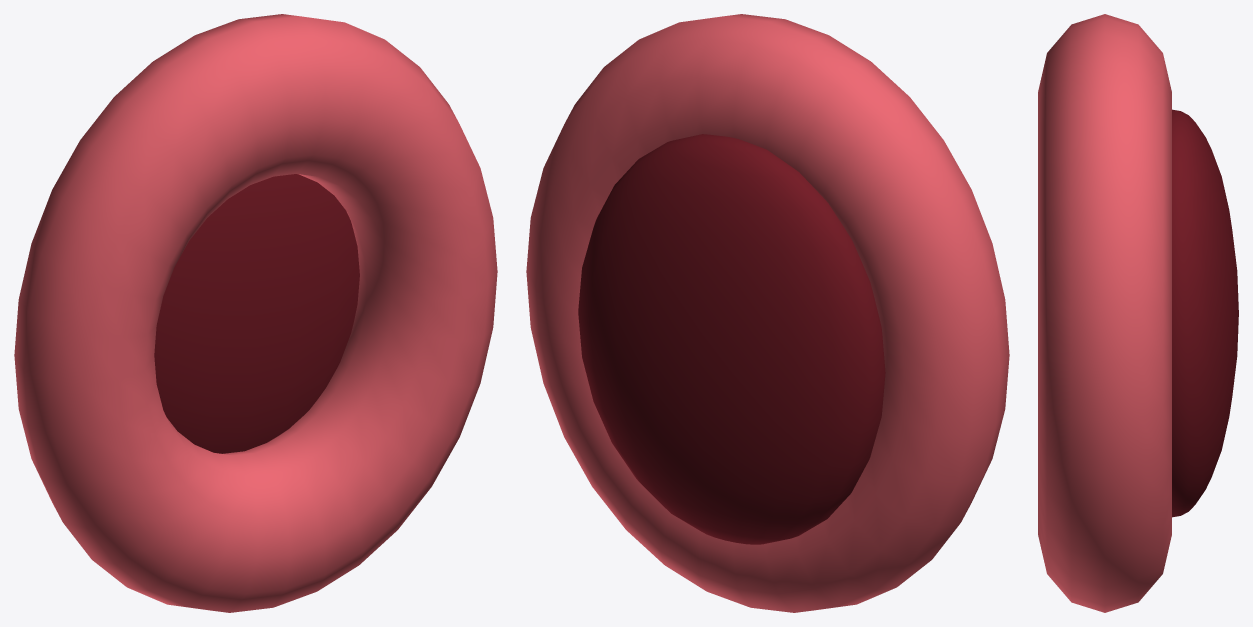
File: mouth-oh.glb
3 renders of one model, left to right at view 1: azimuth 30°, elevation 25°; view 2: azimuth 150°, elevation 25°; view 3: azimuth 270°, elevation 25°, orthographic. The views are drawn at different scales.
Visible parts, largest first — view 1: lips, inside; view 2: lips, inside; view 3: lips, inside.
Boxes of the visible parts, x1,y1,x2,y2 form: lips: (14, 14, 497, 612); inside: (154, 174, 359, 453); lips: (526, 14, 1009, 612); inside: (578, 134, 885, 544); lips: (1038, 14, 1171, 612); inside: (1172, 109, 1238, 517).
Bounding box in the file's own units: 0.115 × 0.138 × 0.045.
